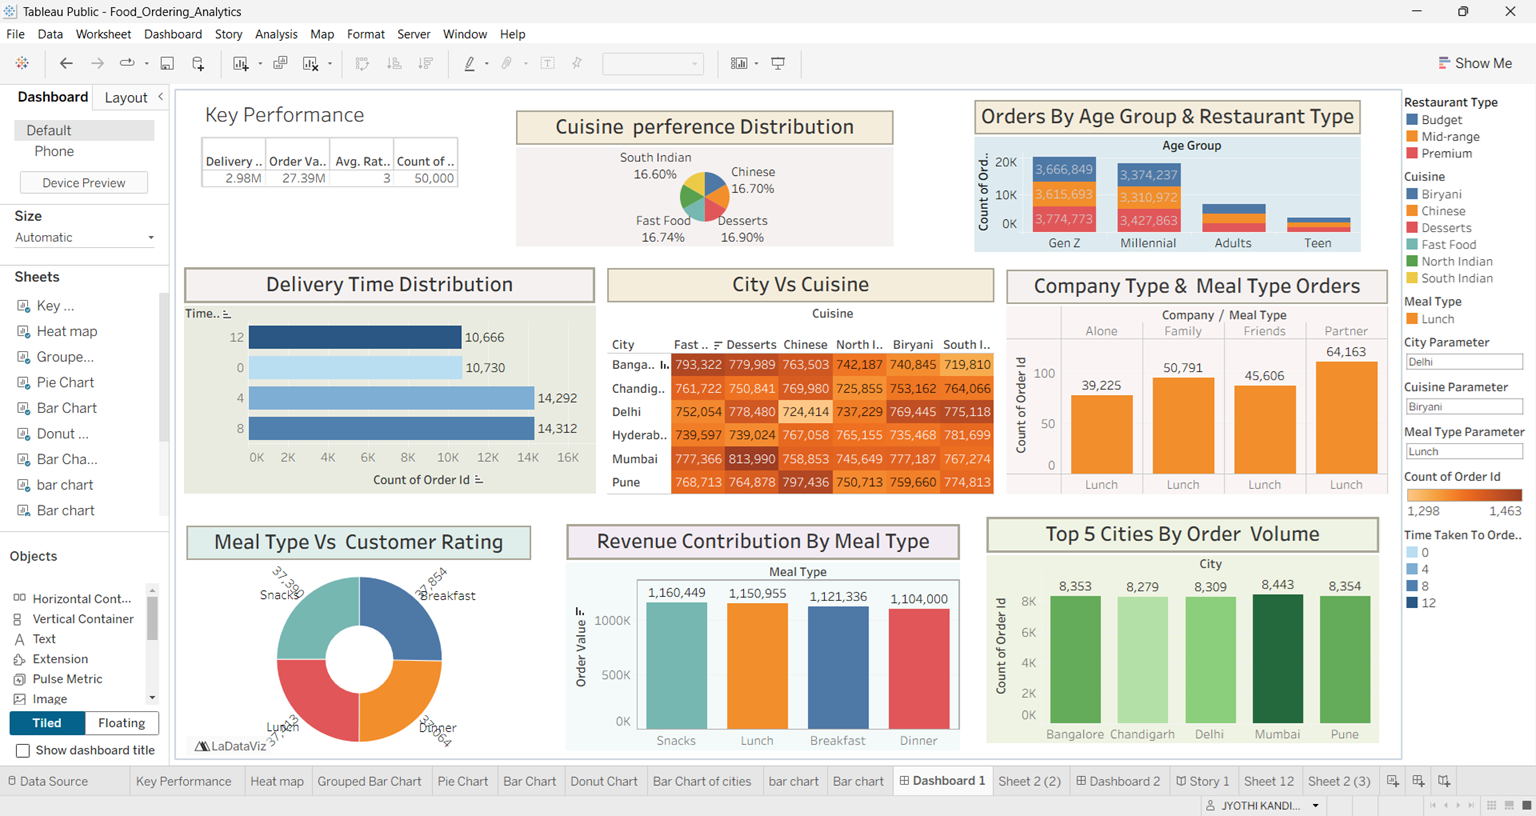

What the dashboard file says about the page in this screenshot:
{"tool":"tableau","page":{"name":"Dashboard 1","canvas":[1000,1000],"units":"permille","ordinal":0},"visuals":[{"type":"legend","title":"Grouped Bar Chart","param":"[federated.0sabdnk0mrmq661cqcwrx067a345].[none:restaurant_type:nk]","box":[898.6,9.4,96.6,109.3]},{"type":"worksheet","title":"Key Performance ","mark":"Automatic","box":[22.7,18.8,204.4,163.3]},{"type":"worksheet","title":"Grouped Bar Chart","mark":"Automatic","rows":["order_id"],"cols":["Calculation_2435712635281408"],"box":[589.4,23.5,283.1,223.3]},{"type":"worksheet","title":"Pie Chart","mark":"Pie","box":[253.9,38.8,276.5,199.8]},{"type":"legend","title":"Pie Chart","param":"[federated.0sabdnk0mrmq661cqcwrx067a345].[none:cuisine:nk]","box":[898.6,118.7,96.6,183.3]},{"type":"worksheet","title":"Bar chart","mark":"Automatic","rows":["Time Taken To Order (bin)"],"cols":["order_id"],"box":[10.7,269.1,301.6,332.6]},{"type":"worksheet","title":"Heat map","mark":"Square","rows":["city"],"cols":["cuisine"],"box":[320.6,270.3,283.7,332.6]},{"type":"worksheet","title":"Bar Chart","mark":"Automatic","rows":["order_id"],"cols":["company","meal_type"],"box":[612.6,272.6,279.5,330.2]},{"type":"legend","title":"Bar Chart","param":"[federated.0sabdnk0mrmq661cqcwrx067a345].[none:meal_type:nk]","box":[898.6,302,96.6,59.9]},{"type":"parameter","param":"[Parameters].[City Parameter]","box":[898.6,361.9,96.6,65.8]},{"type":"parameter","param":"[Parameters].[Cuisine Parameter]","box":[898.6,427.7,96.6,65.8]},{"type":"parameter","param":"[Parameters].[Meal Type Parameter]","box":[898.6,493.5,96.6,65.8]},{"type":"legend","title":"Heat map","param":"[federated.0sabdnk0mrmq661cqcwrx067a345].[cnt:order_id:qk]","box":[898.6,559.3,96.6,85.8]},{"type":"worksheet","title":"Bar Chart of cities","mark":"Automatic","rows":["order_id"],"cols":["city"],"box":[598.3,635.7,287.8,332.6]},{"type":"legend","title":"Bar chart","param":"[federated.0sabdnk0mrmq661cqcwrx067a345].[none:Time Taken To Order (bin):ok]","box":[898.6,645.1,96.6,134]},{"type":"worksheet","title":"bar chart","mark":"Automatic","rows":["order_value"],"cols":["meal_type"],"box":[290.2,646.3,289,332.6]},{"type":"worksheet","title":"Donut Chart","box":[12.5,648.6,252.7,337.2]}]}

Visuals, with their boxes on the dashboard's canvas, which has no fixed pixel size, in thousandths of its width and height (x1, y1, x2, y2). These are canvas units, not pixel positions in the 1536x816 screenshot, which may show the page scaled, cropped or inside an application window:
"Grouped Bar Chart" legend: (x1=899, y1=9, x2=995, y2=119)
"Key Performance " worksheet: (x1=23, y1=19, x2=227, y2=182)
"Grouped Bar Chart" worksheet: (x1=589, y1=24, x2=872, y2=247)
"Pie Chart" worksheet (Pie marks): (x1=254, y1=39, x2=530, y2=239)
"Pie Chart" legend: (x1=899, y1=119, x2=995, y2=302)
"Bar chart" worksheet: (x1=11, y1=269, x2=312, y2=602)
"Heat map" worksheet (Square marks): (x1=321, y1=270, x2=604, y2=603)
"Bar Chart" worksheet: (x1=613, y1=273, x2=892, y2=603)
"Bar Chart" legend: (x1=899, y1=302, x2=995, y2=362)
parameter: (x1=899, y1=362, x2=995, y2=428)
parameter: (x1=899, y1=428, x2=995, y2=494)
parameter: (x1=899, y1=494, x2=995, y2=559)
"Heat map" legend: (x1=899, y1=559, x2=995, y2=645)
"Bar Chart of cities" worksheet: (x1=598, y1=636, x2=886, y2=968)
"Bar chart" legend: (x1=899, y1=645, x2=995, y2=779)
"bar chart" worksheet: (x1=290, y1=646, x2=579, y2=979)
"Donut Chart" worksheet: (x1=12, y1=649, x2=265, y2=986)
